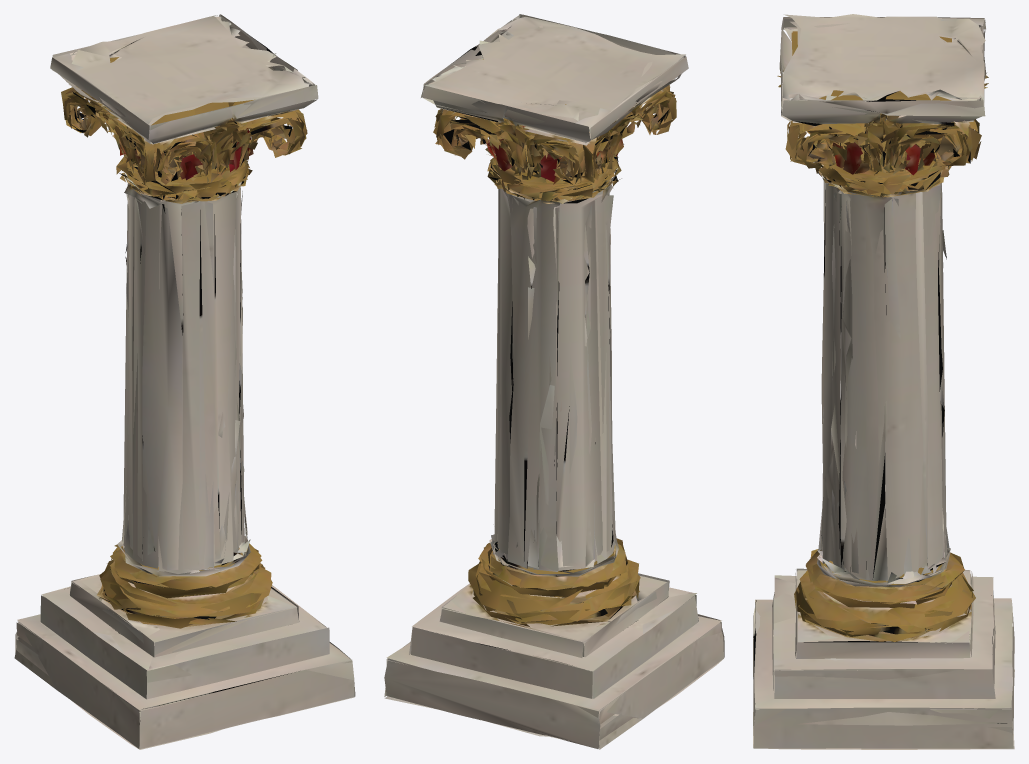
Rendered from town_column.glb.
3 renders of one model, left to right at view 1: azimuth 30°, elevation 25°; view 2: azimuth 150°, elevation 25°; view 3: azimuth 270°, elevation 25°, orthographic. The views are drawn at different scales.
Visible parts, largest first — view 1: town_column; view 2: town_column; view 3: town_column.
Part boxes in pixels (bbox=[...]): town_column: bbox=[14, 14, 355, 749]; town_column: bbox=[384, 14, 724, 749]; town_column: bbox=[753, 14, 1014, 749].
Bounding box in the file's own units: 1.95 × 5.24 × 1.94.
1 material, 1 textured.
